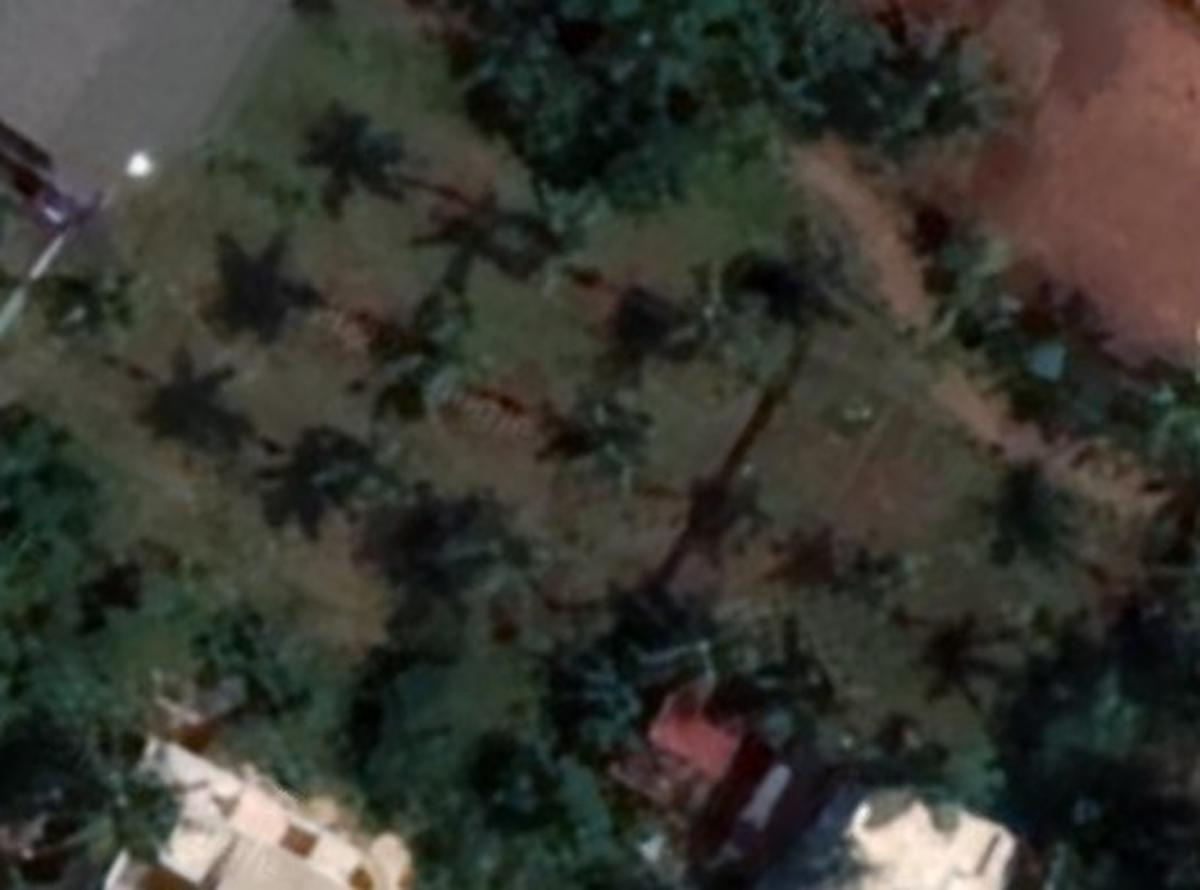coconut: (357, 298, 498, 416), (662, 259, 783, 382), (500, 172, 612, 289), (548, 380, 653, 496), (318, 432, 430, 523)
